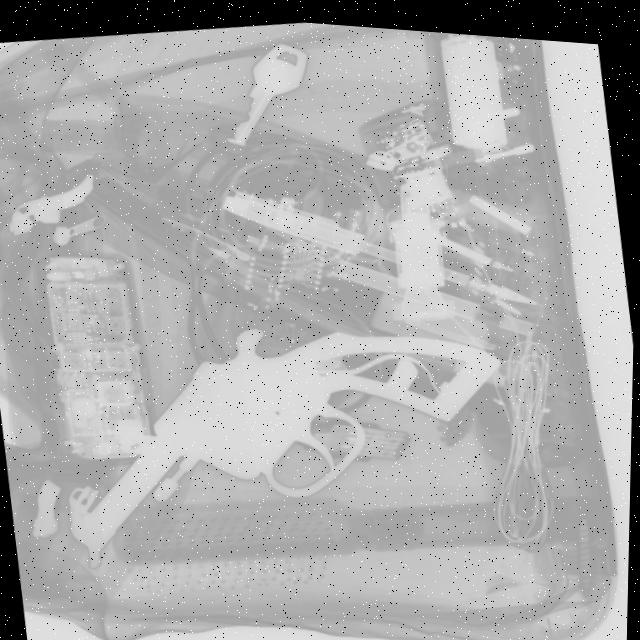pistol: (50, 276, 523, 572)
